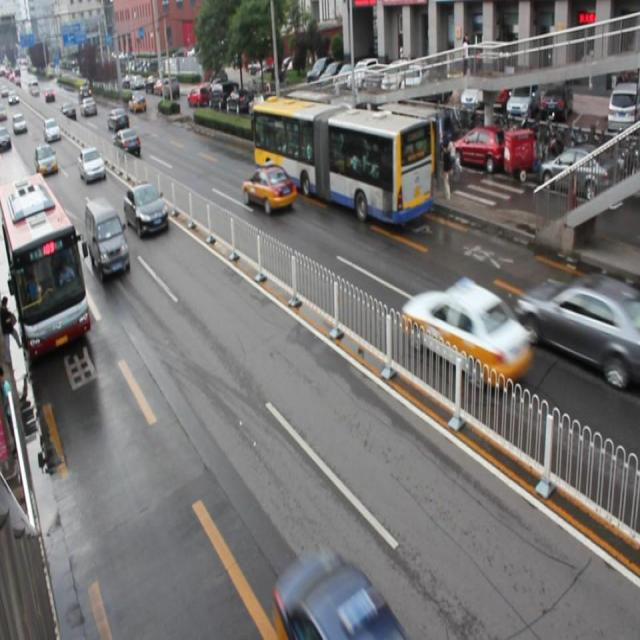car: (516, 271, 640, 386), (402, 280, 530, 388), (274, 550, 409, 640), (240, 164, 296, 212), (123, 183, 168, 237), (79, 149, 106, 184), (113, 129, 141, 158)
truck: (84, 195, 130, 281)
van: (251, 92, 436, 229), (1, 176, 90, 356)
